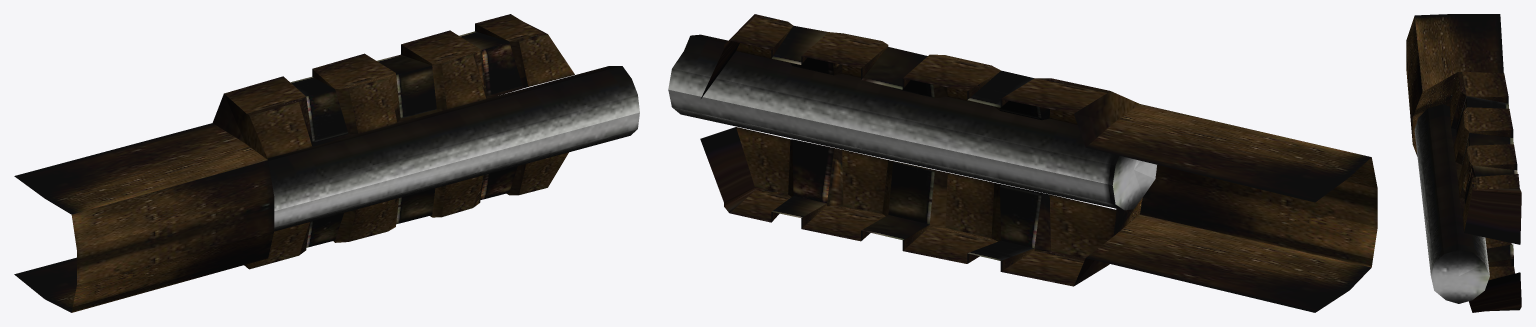
File: v_shot_1.obj
The picture shows the model from 3 angles, left to right: view 1: azimuth 30°, elevation 25°; view 2: azimuth 150°, elevation 25°; view 3: azimuth 270°, elevation 25°; orthographic projection. The views are drawn at different scales.
Bounding box in the file's own units: 15.74 × 3.97 × 3.41.
Materials: 1 (1 with a texture image).
